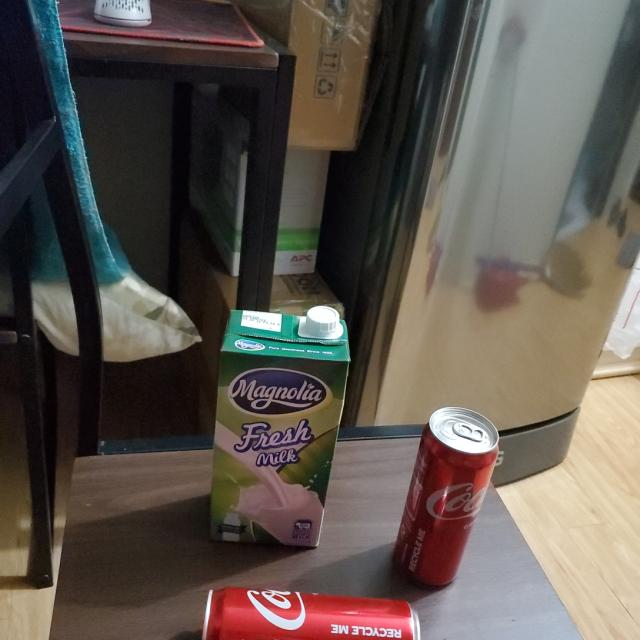coke: (393, 404, 503, 586), (200, 585, 422, 640)
milk: (206, 304, 352, 548)
